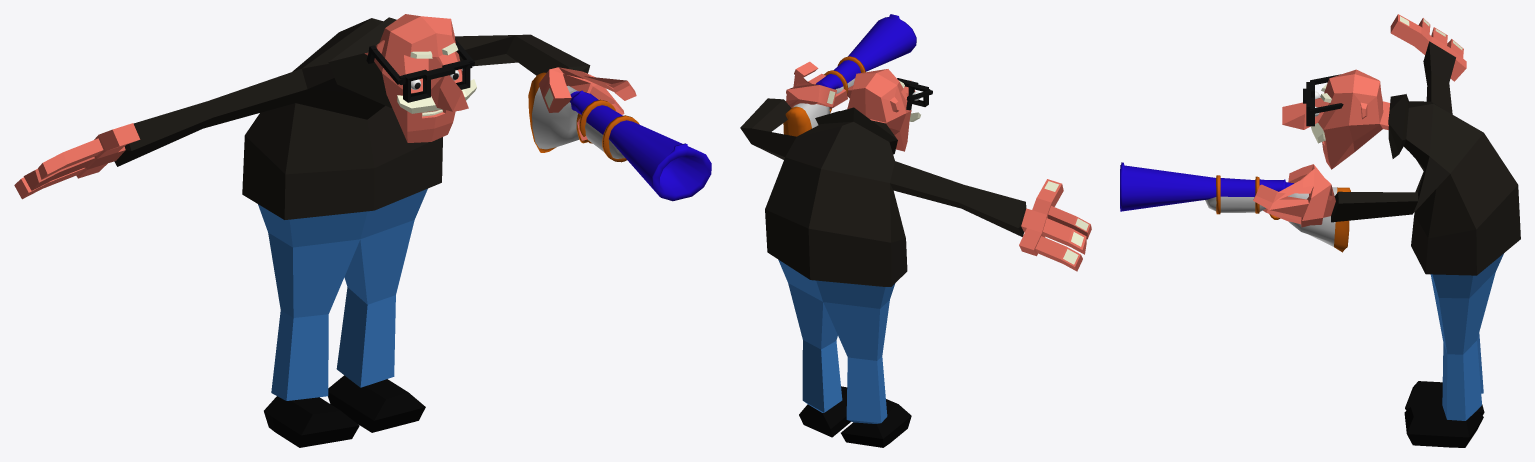
Rendered from man.obj.
3 renders of one model, left to right at view 1: azimuth 30°, elevation 25°; view 2: azimuth 150°, elevation 25°; view 3: azimuth 270°, elevation 25°, orthographic. The views are drawn at different scales.
Parts seen in each view (by area): view 1: Cube_Cube.001, target_low, wood_low, Cube.005_Cube.006, metal_low; view 2: Cube_Cube.001, target_low, metal_low, Cube.005_Cube.006, wood_low; view 3: Cube_Cube.001, target_low, wood_low, metal_low, Cube.005_Cube.006.
Part boxes in pixels (x1=…): Cube_Cube.001: x1=14, y1=14, x2=636, y2=447; target_low: x1=570, y1=90, x2=711, y2=201; wood_low: x1=532, y1=85, x2=624, y2=158; Cube.005_Cube.006: x1=366, y1=38, x2=474, y2=102; metal_low: x1=528, y1=72, x2=639, y2=162; Cube_Cube.001: x1=740, y1=61, x2=1091, y2=447; target_low: x1=816, y1=14, x2=916, y2=89; metal_low: x1=783, y1=56, x2=865, y2=136; Cube.005_Cube.006: x1=897, y1=78, x2=932, y2=110; wood_low: x1=792, y1=78, x2=854, y2=128; Cube_Cube.001: x1=1253, y1=14, x2=1520, y2=447; target_low: x1=1120, y1=162, x2=1293, y2=211; wood_low: x1=1205, y1=187, x2=1337, y2=246; metal_low: x1=1216, y1=175, x2=1350, y2=252; Cube.005_Cube.006: x1=1303, y1=74, x2=1343, y2=126.
Bounding box in the file's own units: 16.4 × 13.8 × 13.84.
